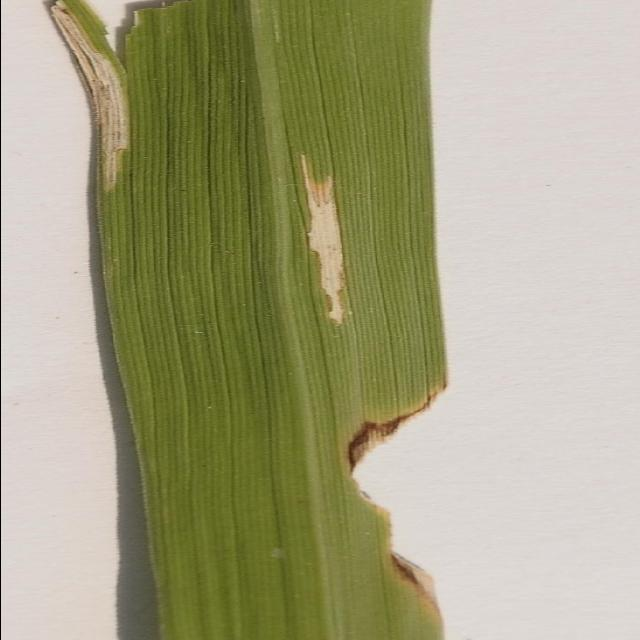Bacterial_Leaf_Blight: (198, 72, 406, 364)
